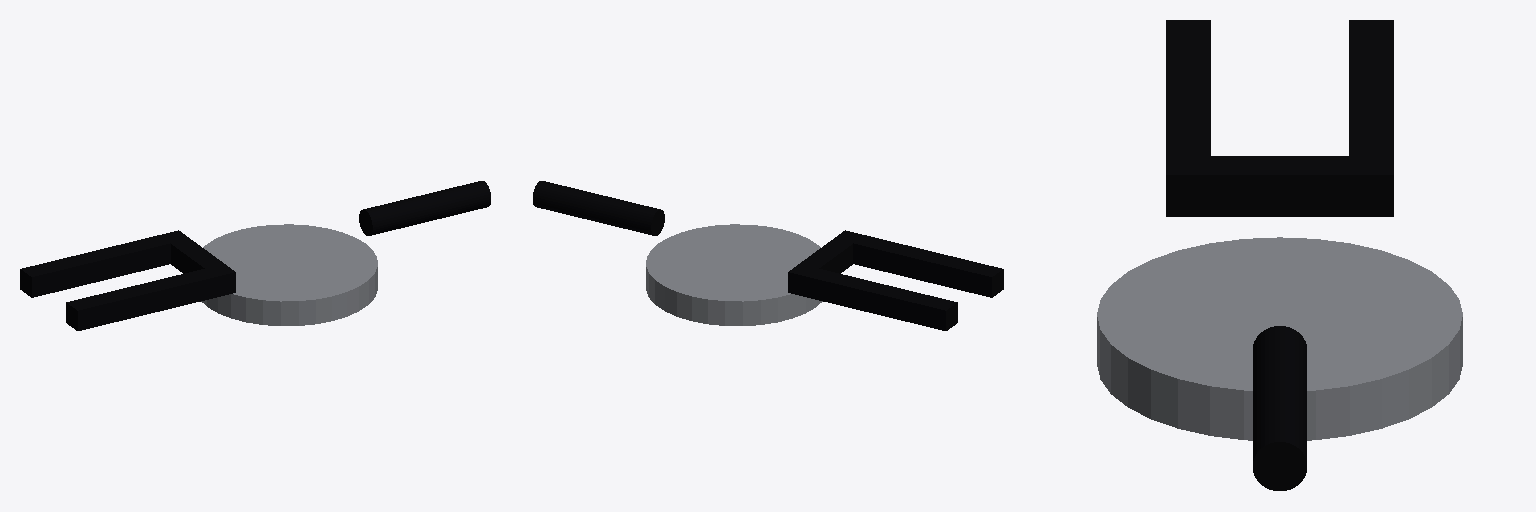
robot.urdf — mph3:
<?xml version="1.0"?>
<!--
  MPH-3 multi-purpose hand: a flange plate carrying a gripper mount, a
  button pin and a door fork (CC0-1.0, botrail-assets). Generated by
  tools/generate_urdf.py from bt.tools.multi_tool_urdf — edit the
  layout there, not here.

  Frames (botrail catalog convention, Z-up, metres):
    mph3_plate        root = the robot flange face (ISO 9409-1-50-4-M6), +Z outward
    mph3_gripper      the face the gripper stack bolts to, 12 mm out along +Z
    mph3_pusher_tip   the pin's end, +Z along the pin (+X of the plate, 100 mm out)
    mph3_fork_tip     the seat between the prongs, +Z along them (-X of the plate)
-->
<robot name="mph3">
  <link name="mph3_plate"><visual><origin xyz="0 0 0.006000"/><geometry><cylinder radius="0.040000" length="0.012000"/></geometry><material name="mph3_plate_m"><color rgba="0.5500 0.5600 0.5800 1"/></material></visual><collision><origin xyz="0 0 0.006000"/><geometry><cylinder radius="0.040000" length="0.012000"/></geometry></collision></link>
  <link name="mph3_gripper"></link>
  <link name="mph3_pusher"><visual><origin xyz="0 0 0.030000"/><geometry><cylinder radius="0.006000" length="0.060000"/></geometry><material name="mph3_pusher_m"><color rgba="0.0600 0.0600 0.0700 1"/></material></visual><collision><origin xyz="0 0 0.030000"/><geometry><cylinder radius="0.006000" length="0.060000"/></geometry></collision></link>
  <link name="mph3_pusher_tip"></link>
  <link name="mph3_fork"><visual><origin xyz="0 0 0.005000"/><geometry><box size="0.050000 0.010000 0.010000"/></geometry><material name="mph3_fork_m"><color rgba="0.0600 0.0600 0.0700 1"/></material></visual><collision><origin xyz="0 0 0.005000"/><geometry><box size="0.050000 0.010000 0.010000"/></geometry></collision></link>
  <link name="mph3_fork_prong_l"><visual><origin xyz="0 0 0.040000"/><geometry><box size="0.010000 0.010000 0.080000"/></geometry><material name="mph3_fork_prong_l_m"><color rgba="0.0600 0.0600 0.0700 1"/></material></visual><collision><origin xyz="0 0 0.040000"/><geometry><box size="0.010000 0.010000 0.080000"/></geometry></collision></link>
  <link name="mph3_fork_prong_r"><visual><origin xyz="0 0 0.040000"/><geometry><box size="0.010000 0.010000 0.080000"/></geometry><material name="mph3_fork_prong_r_m"><color rgba="0.0600 0.0600 0.0700 1"/></material></visual><collision><origin xyz="0 0 0.040000"/><geometry><box size="0.010000 0.010000 0.080000"/></geometry></collision></link>
  <link name="mph3_fork_tip"></link>
  <joint name="mph3_gripper_joint" type="fixed"><parent link="mph3_plate"/><child link="mph3_gripper"/><origin xyz="0.000000000 0.000000000 0.012000000" rpy="0.000000000 -0.000000000 0.000000000"/></joint>
  <joint name="mph3_pusher_joint" type="fixed"><parent link="mph3_plate"/><child link="mph3_pusher"/><origin xyz="0.040000000 0.000000000 0.022000000" rpy="1.570796327 -0.000000000 1.570796327"/></joint>
  <joint name="mph3_pusher_tip_joint" type="fixed"><parent link="mph3_pusher"/><child link="mph3_pusher_tip"/><origin xyz="0 0 0.060000" rpy="0 0 0"/></joint>
  <joint name="mph3_fork_joint" type="fixed"><parent link="mph3_plate"/><child link="mph3_fork"/><origin xyz="-0.040000000 0.000000000 0.022000000" rpy="-1.570796327 -0.000000000 1.570796327"/></joint>
  <joint name="mph3_fork_prong_l_joint" type="fixed"><parent link="mph3_fork"/><child link="mph3_fork_prong_l"/><origin xyz="-0.020000 0 0" rpy="0 0 0"/></joint>
  <joint name="mph3_fork_prong_r_joint" type="fixed"><parent link="mph3_fork"/><child link="mph3_fork_prong_r"/><origin xyz="0.020000 0 0" rpy="0 0 0"/></joint>
  <joint name="mph3_fork_tip_joint" type="fixed"><parent link="mph3_fork"/><child link="mph3_fork_tip"/><origin xyz="0 0 0.050000" rpy="0 0 0"/></joint>
</robot>

--- Render facts (derived) ---
Views: 3 orthographic renders of the robot side by side, from view 1: azimuth 30°, elevation 25°; view 2: azimuth 150°, elevation 25°; view 3: azimuth 270°, elevation 25°.
Robot: mph3 — 8 links, 7 joints (7 fixed); root link mph3_plate; default pose: all joints at 0.
Visible links, largest first — view 1: mph3_plate, mph3_fork_prong_l, mph3_fork_prong_r, mph3_pusher, mph3_fork; view 2: mph3_plate, mph3_fork_prong_l, mph3_fork_prong_r, mph3_pusher, mph3_fork; view 3: mph3_plate, mph3_fork, mph3_pusher, mph3_fork_prong_r, mph3_fork_prong_l.
Link boxes in pixels (left/top/right/bottom): mph3_plate: left=201, top=224, right=377, bottom=325; mph3_fork_prong_l: left=66, top=264, right=235, bottom=330; mph3_fork_prong_r: left=20, top=230, right=181, bottom=297; mph3_pusher: left=359, top=181, right=490, bottom=235; mph3_fork: left=162, top=231, right=235, bottom=297; mph3_plate: left=646, top=224, right=822, bottom=325; mph3_fork_prong_l: left=841, top=230, right=1003, bottom=297; mph3_fork_prong_r: left=788, top=264, right=957, bottom=330; mph3_pusher: left=533, top=181, right=664, bottom=235; mph3_fork: left=788, top=231, right=857, bottom=297; mph3_plate: left=1097, top=237, right=1462, bottom=440; mph3_fork: left=1166, top=156, right=1393, bottom=216; mph3_pusher: left=1253, top=326, right=1306, bottom=490; mph3_fork_prong_r: left=1349, top=20, right=1393, bottom=216; mph3_fork_prong_l: left=1166, top=20, right=1210, bottom=216.
Bounding box of the posed robot: 0.22 × 0.08 × 0.028 m (x, y, z).
Geometry: primitives only (box / cylinder / sphere), no mesh files.
